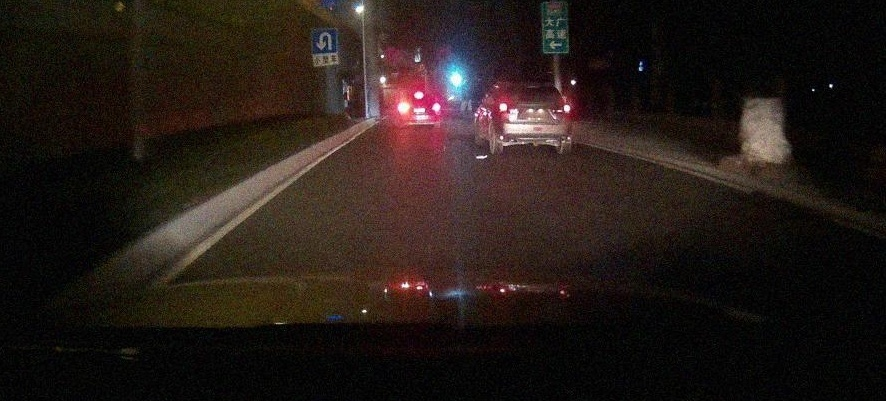L_light: (495, 102, 516, 112), (398, 104, 410, 109)
R_light: (553, 103, 571, 114), (431, 105, 441, 110)
T_light: (525, 86, 539, 90), (414, 93, 424, 96)
night-left: (397, 90, 441, 128)
night-no: (494, 81, 572, 155)
